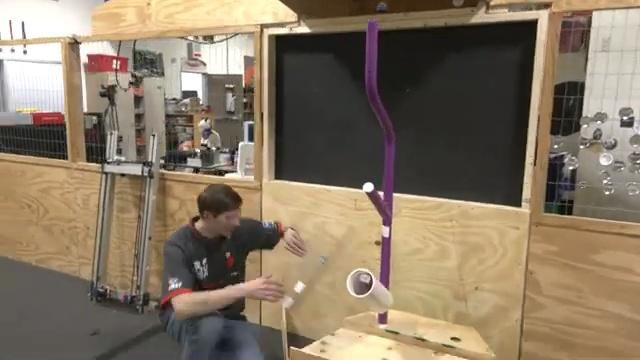CORAL: (346, 269, 394, 314)
